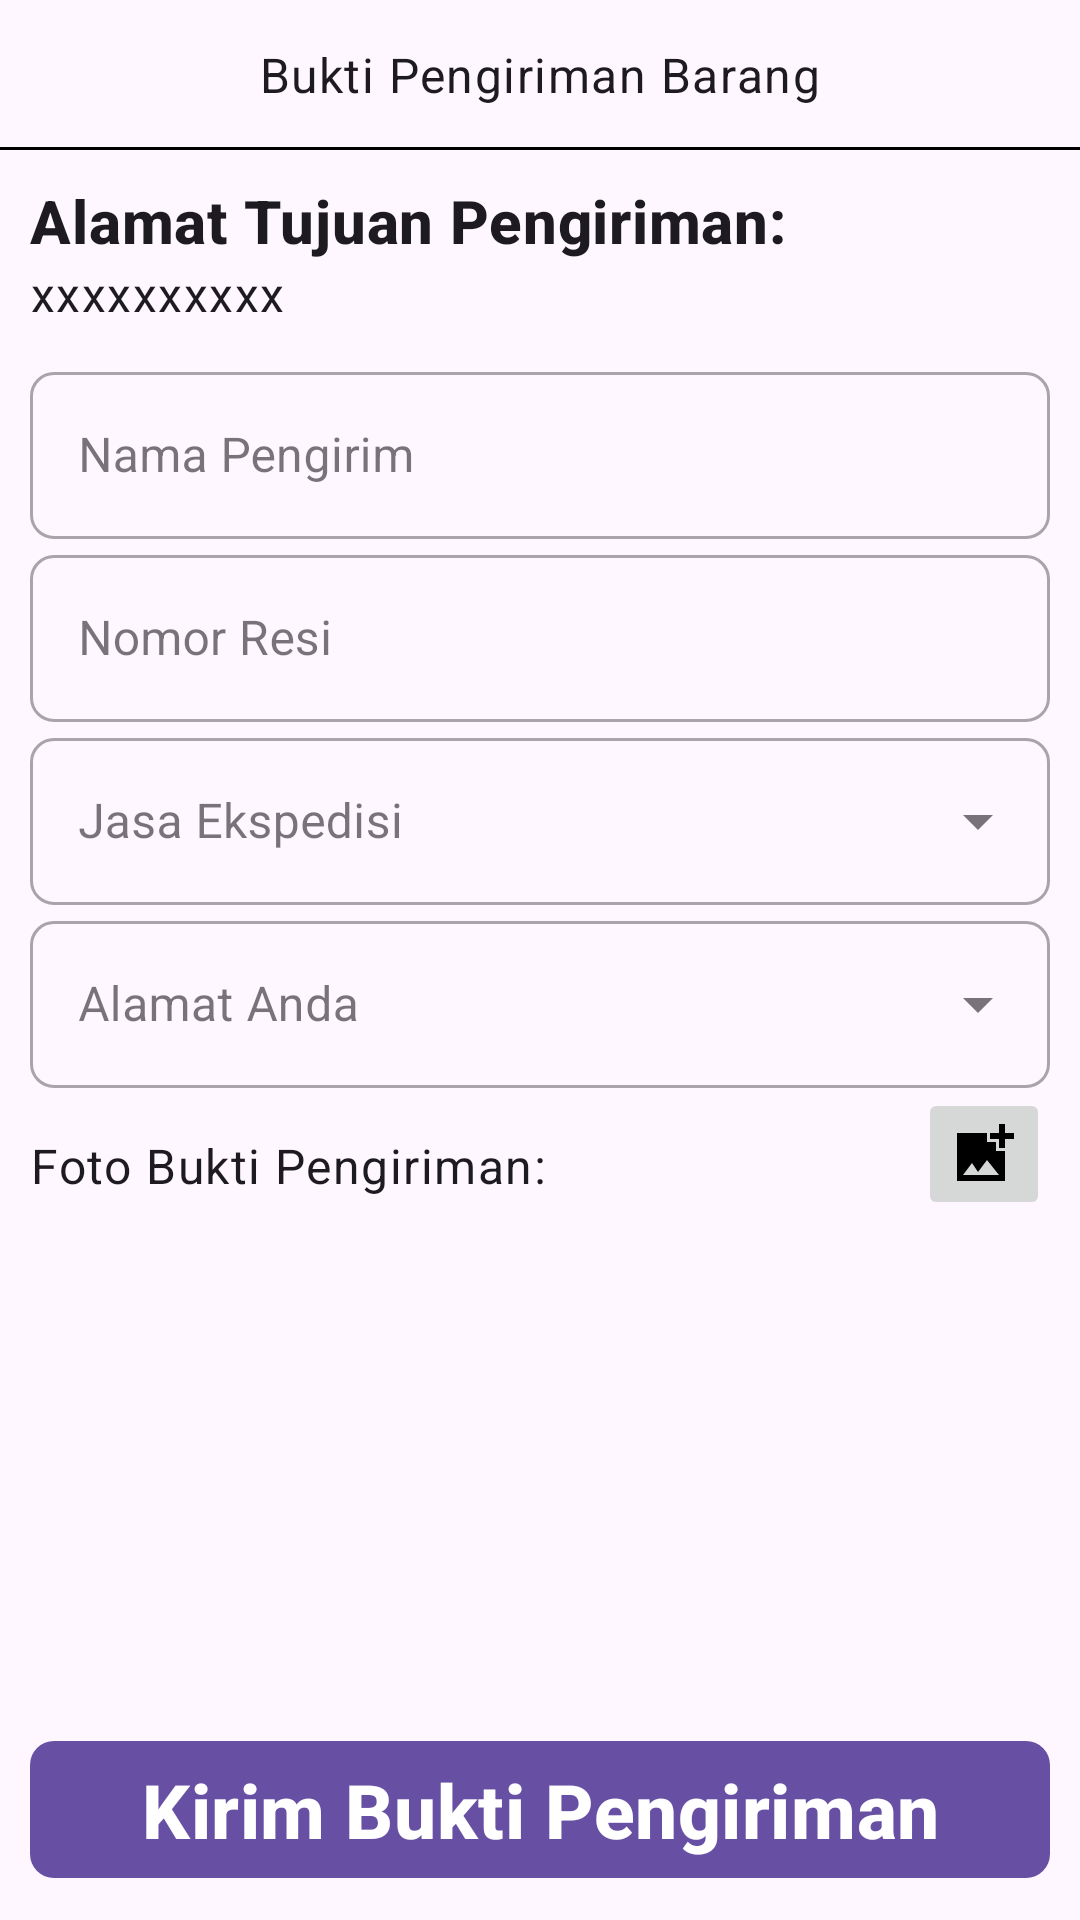

Where icons sit on this 1080px×1920px app screen, as region(x1, y1, x2, y2):
tambah gambar: region(930, 1106, 1038, 1202)
